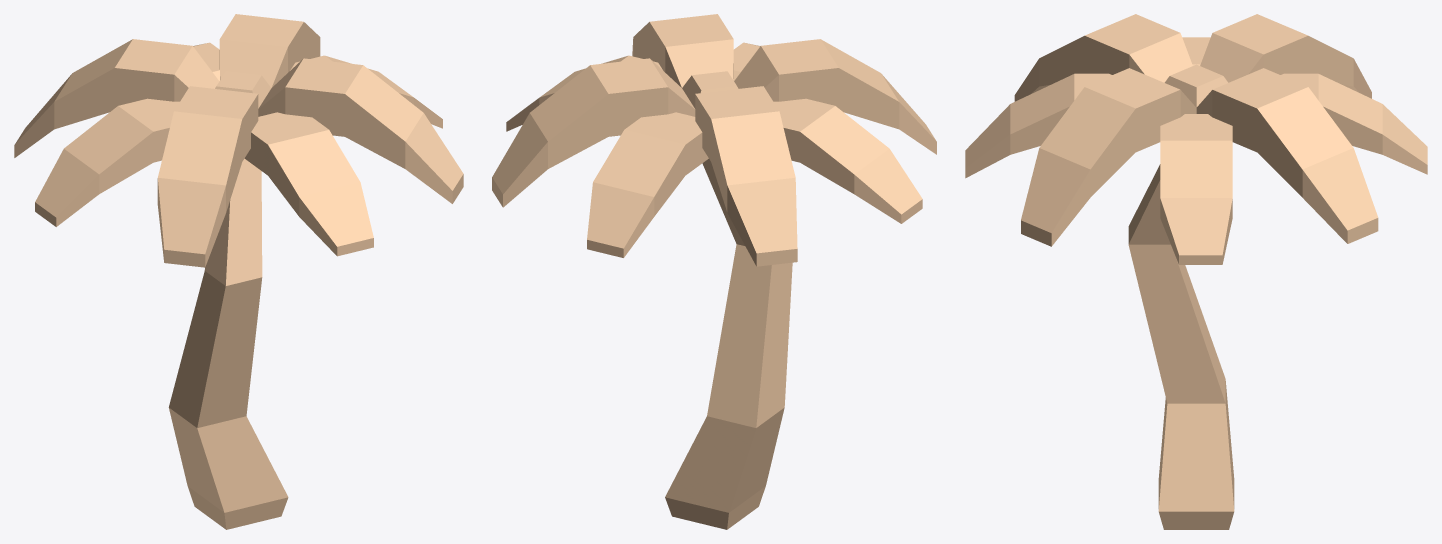
File: palmDetailed_small.fbx
The picture shows the model from 3 angles, left to right: view 1: azimuth 30°, elevation 25°; view 2: azimuth 150°, elevation 25°; view 3: azimuth 270°, elevation 25°; orthographic projection. The views are drawn at different scales.
Visible parts, largest first — view 1: palmDetailed_small; view 2: palmDetailed_small; view 3: palmDetailed_small.
Part boxes in pixels (left/top/right/bottom): palmDetailed_small: left=14, top=14, right=463, bottom=529; palmDetailed_small: left=492, top=14, right=936, bottom=529; palmDetailed_small: left=965, top=14, right=1427, bottom=529.
Bounding box in the file's own units: 232 × 252 × 232.
